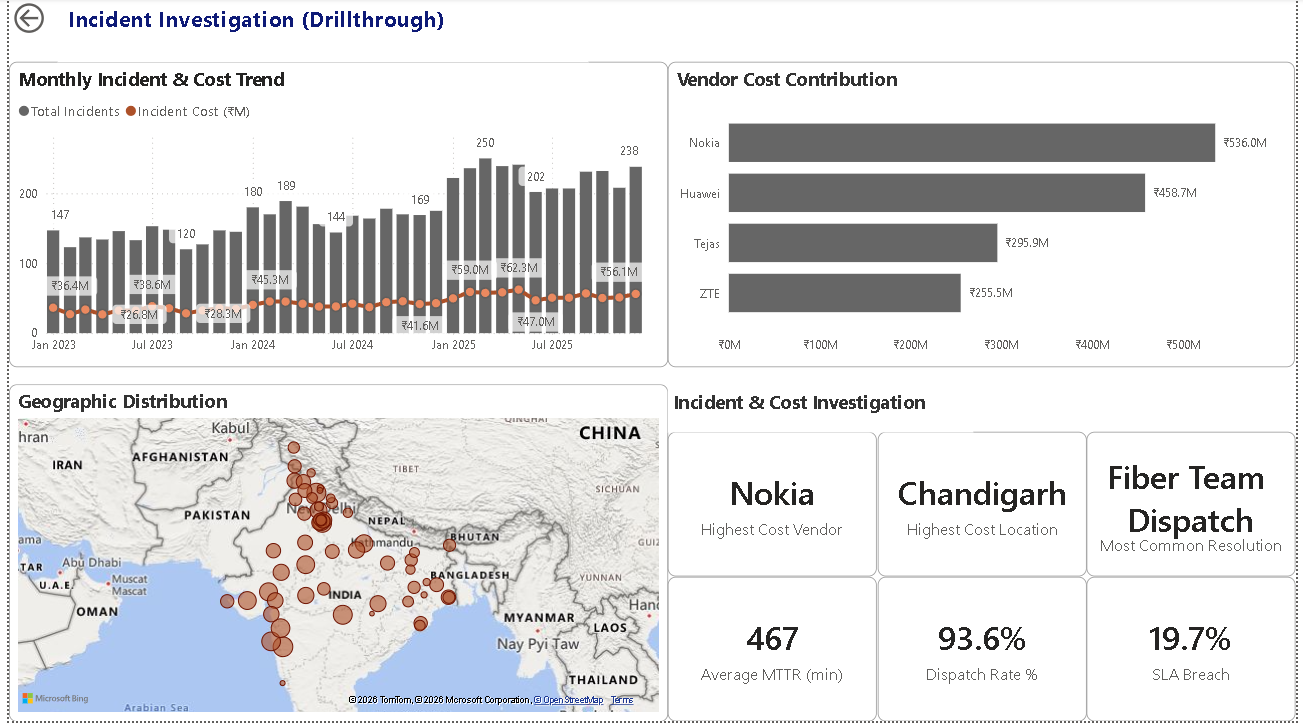

What the dashboard file says about the page in this screenshot:
{"tool":"powerbi","page":{"name":"Incident Investigation (Drillthrough)","canvas":[1280,720],"ordinal":5},"visuals":[{"type":"actionButton","box":[0,0,100,40],"z":0},{"type":"lineClusteredColumnComboChart","title":"Monthly Incident & Cost Trend","fields":{"Category":["Dim_Date.Year_Month"],"Y":["Measure.Total Incidents"],"Y2":["Measure.Incident Cost ($M)"]},"box":[0,64,656,304],"z":1000},{"type":"clusteredBarChart","title":"Vendor Cost Contribution","fields":{"Category":["Dim_VendorTechnology.Vendor"],"Y":["Measure.Incident Cost ($M)"]},"box":[656,64,624,304],"z":2000},{"type":"map","title":"Geographic Distribution","fields":{"Category":["Dim_Site.City"],"Size":["Measure.Total Incidents"]},"box":[0,384,656,336],"z":3000},{"type":"card","fields":{"Values":["Measure.Highest Cost Vendor"]},"box":[656,432,208,144],"z":4000},{"type":"card","fields":{"Values":["Measure.Average Resolution Time(Min)"]},"box":[656,576,208,144],"z":5000},{"type":"card","fields":{"Values":["Measure.Dispatch Rate %"]},"box":[864,576,208,144],"z":6000},{"type":"card","fields":{"Values":["Measure.Highest Cost City"]},"box":[864,432,208,144],"z":7000},{"type":"card","fields":{"Values":["Measure.Most Common Resolution"]},"box":[1072,432,208,144],"z":8000},{"type":"card","fields":{"Values":["Measure.SLA Breach"]},"box":[1072,576,208,144],"z":9000},{"type":"textbox","box":[656,384,304,48],"z":10000},{"type":"textbox","box":[48,0,528,64],"z":11000}]}

Visuals, with their boxes in screenshot pixels (x1, y1, x2, y2), scaled from the page's 1280x720 canvas onto the 1303x726 screenshot:
actionButton: [0, 0, 102, 40]
"Monthly Incident & Cost Trend" lineClusteredColumnComboChart: [0, 65, 668, 371]
"Vendor Cost Contribution" clusteredBarChart: [668, 65, 1302, 371]
"Geographic Distribution" map: [0, 387, 668, 725]
card - Measure.Highest Cost Vendor: [668, 436, 880, 581]
card - Measure.Average Resolution Time(Min): [668, 581, 880, 725]
card - Measure.Dispatch Rate %: [880, 581, 1091, 725]
card - Measure.Highest Cost City: [880, 436, 1091, 581]
card - Measure.Most Common Resolution: [1091, 436, 1302, 581]
card - Measure.SLA Breach: [1091, 581, 1302, 725]
textbox: [668, 387, 977, 436]
textbox: [49, 0, 586, 65]
